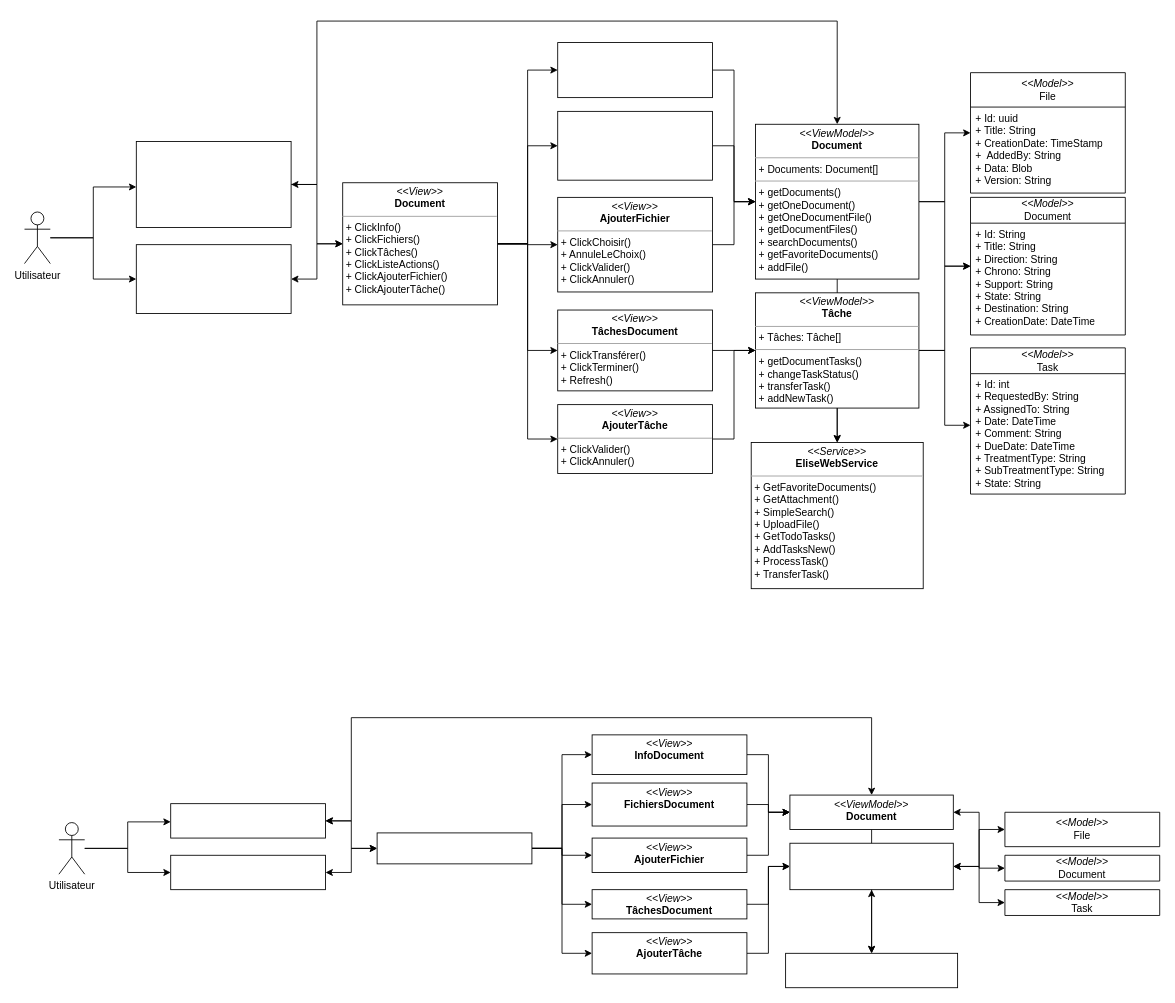
The diagram is 1175 pixels wide and 1003 high, and some of its shapes have lost their labels. The shapes that lost their labels are listed below. From the top down, each one's centre as x and y in pixels, then its label:
pixel 635 70: <<View>> InfoDocument + ClickDocument()
pixel 635 145: <<View>> FichiersDocument + ClickFichier() + Refresh()
pixel 213 184: <<View>> Recherche + RemplirLeChamps() + ClickChercher() + ClickDocument()
pixel 213 278: <<View>> ListeFavoris + ClickDocument() + Refresh()
pixel 248 820: <<View>> Recherche
pixel 454 848: <<View>> Document
pixel 871 866: <<ViewModel>> Tâche
pixel 248 872: <<View>> ListeFavoris
pixel 871 970: <<Service>> EliseWebService
